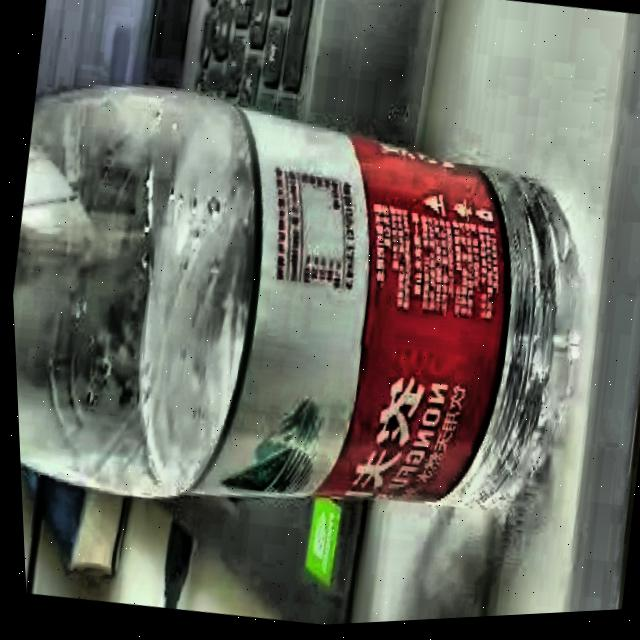plastic: (3, 54, 627, 575)
